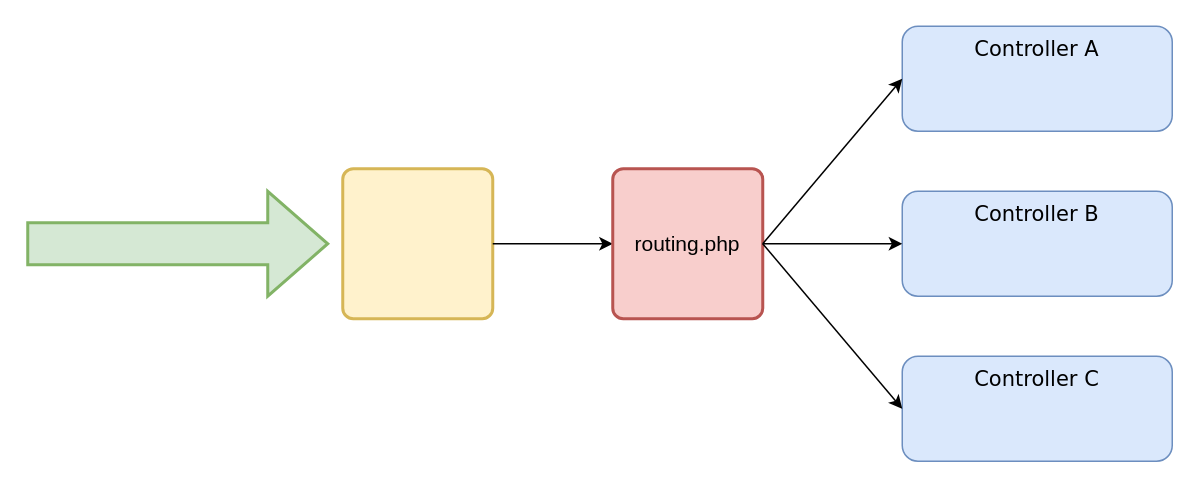
Image size: 1199x488. Some labels were removed from this diagram. The centre of each missing label's shape, as x and y in pixels:
"HTTP REQUEST" goes at point 177,243.
"Index.php" goes at point 417,243.
